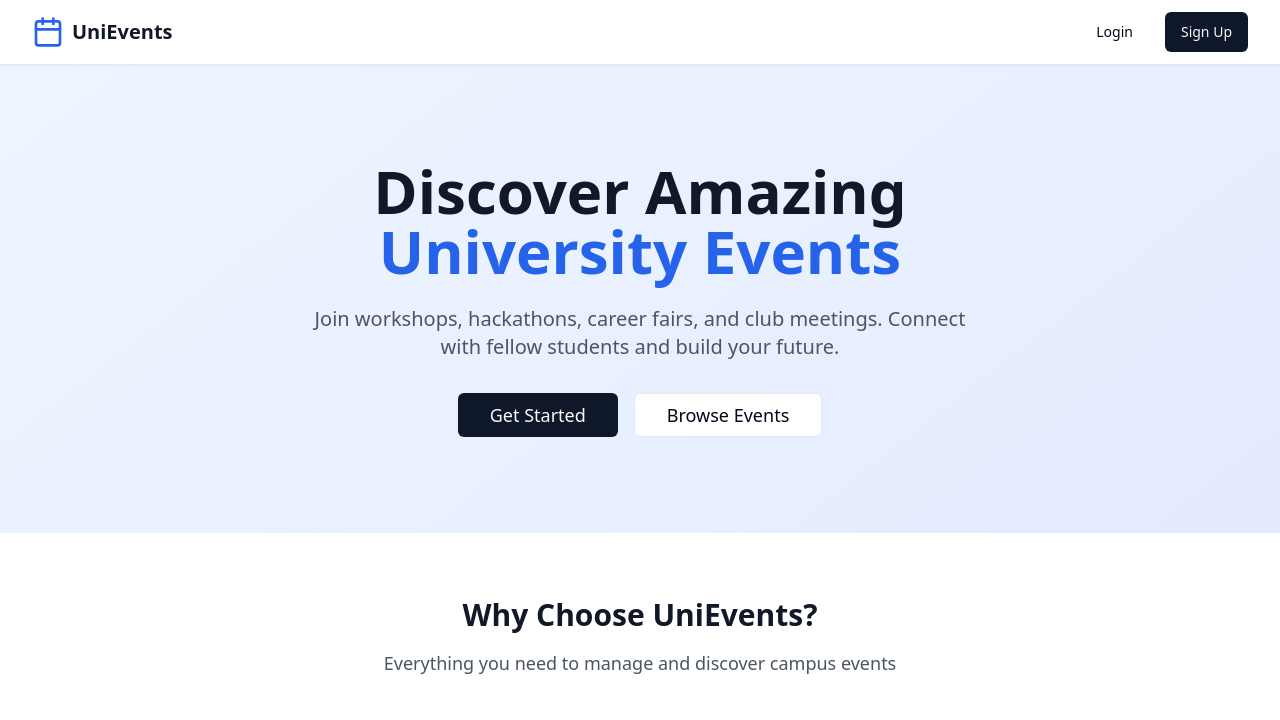
Test case: Index Page › filters events by category
The image size is (1280, 720).
Click the button "Browse Events" at {"x": 728, "y": 415}, box [634, 393, 822, 437]
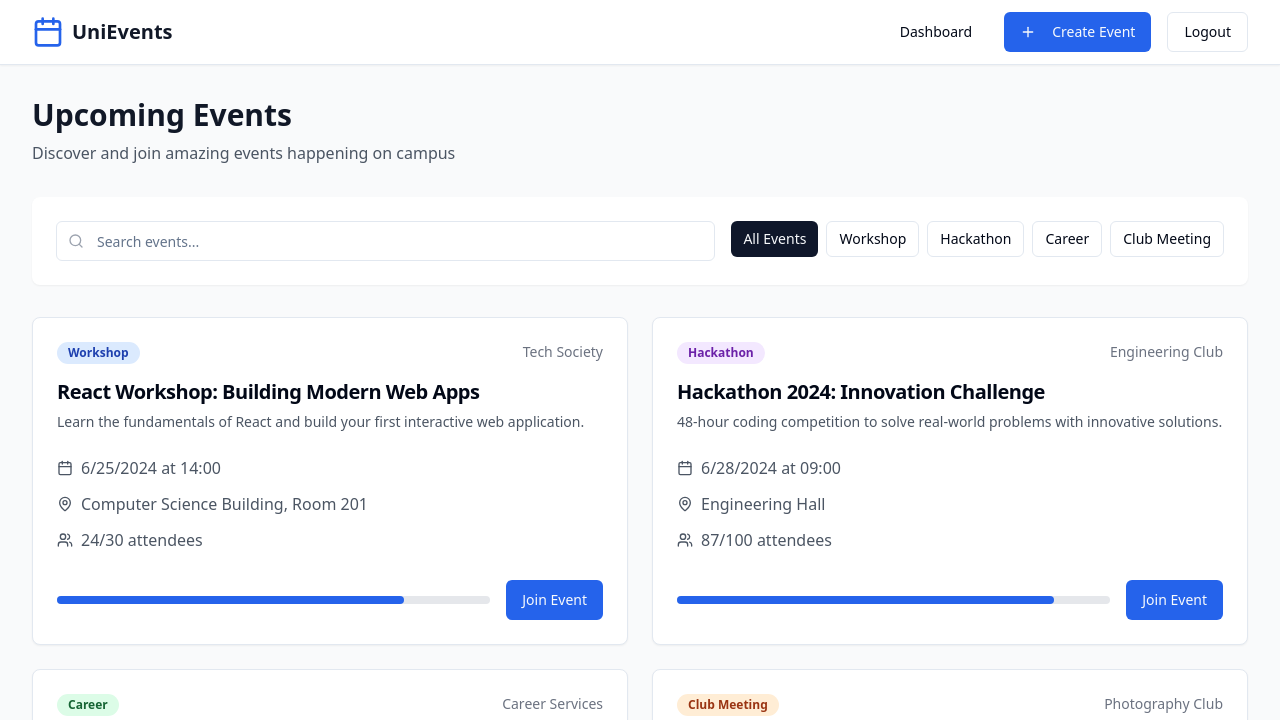
Click the button "Hackathon" at {"x": 976, "y": 239}, box [927, 221, 1024, 257]
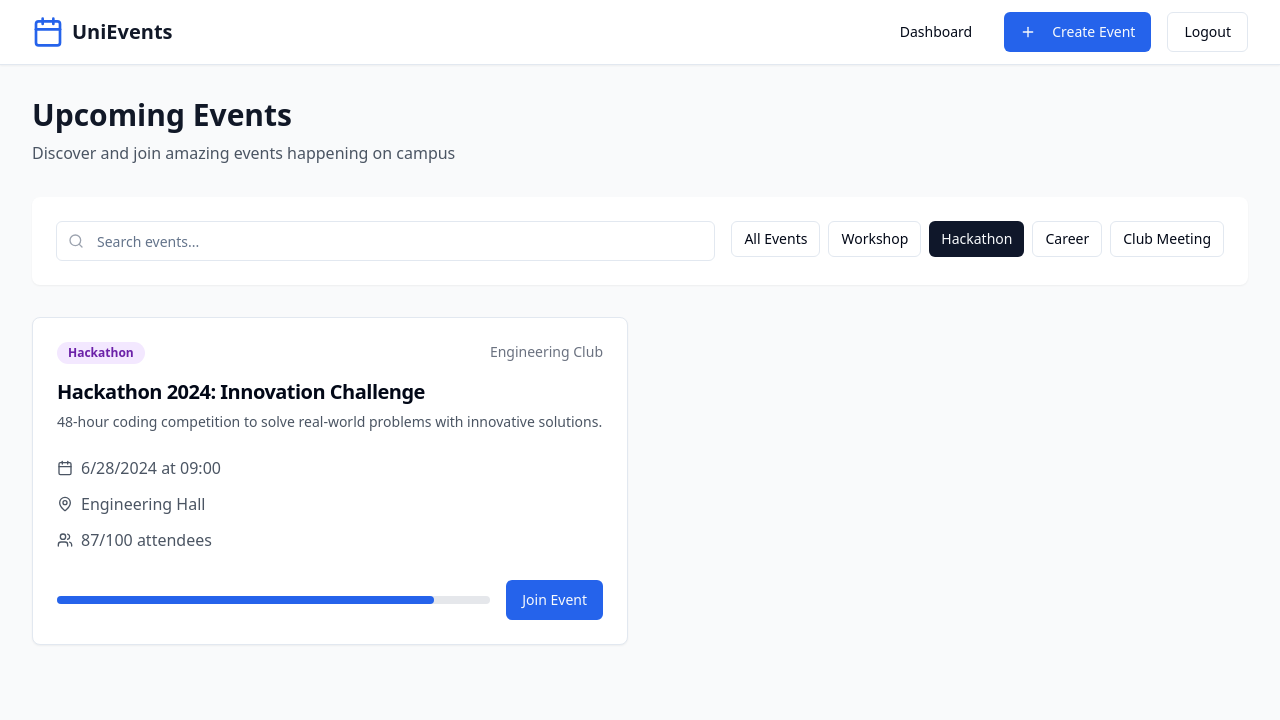
Expected: the heading "Hackathon 2024: Innovation Challenge" is shown, [57, 378, 425, 405]
Expected: the heading "React Workshop" is gone
